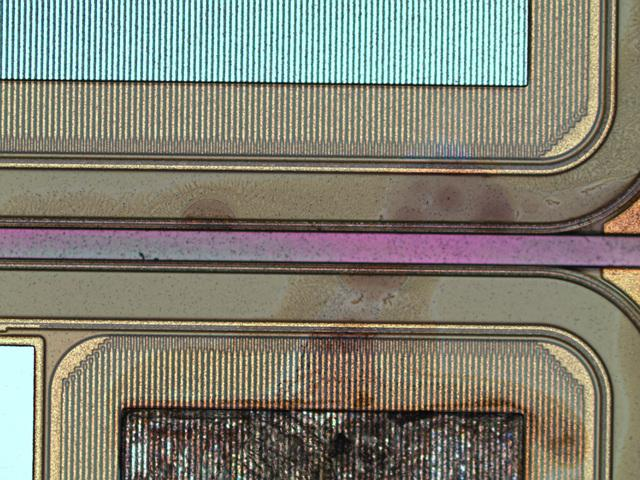SEZ BURNT: (1, 141, 640, 480)
